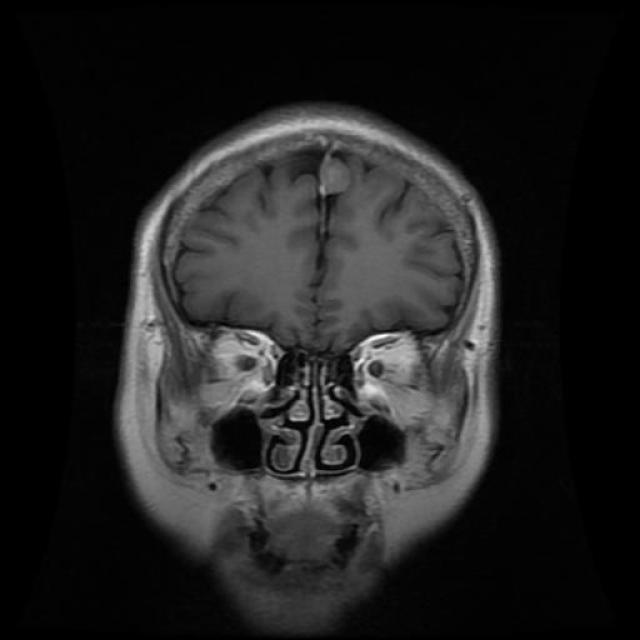meningioma: (322, 160, 350, 196)
